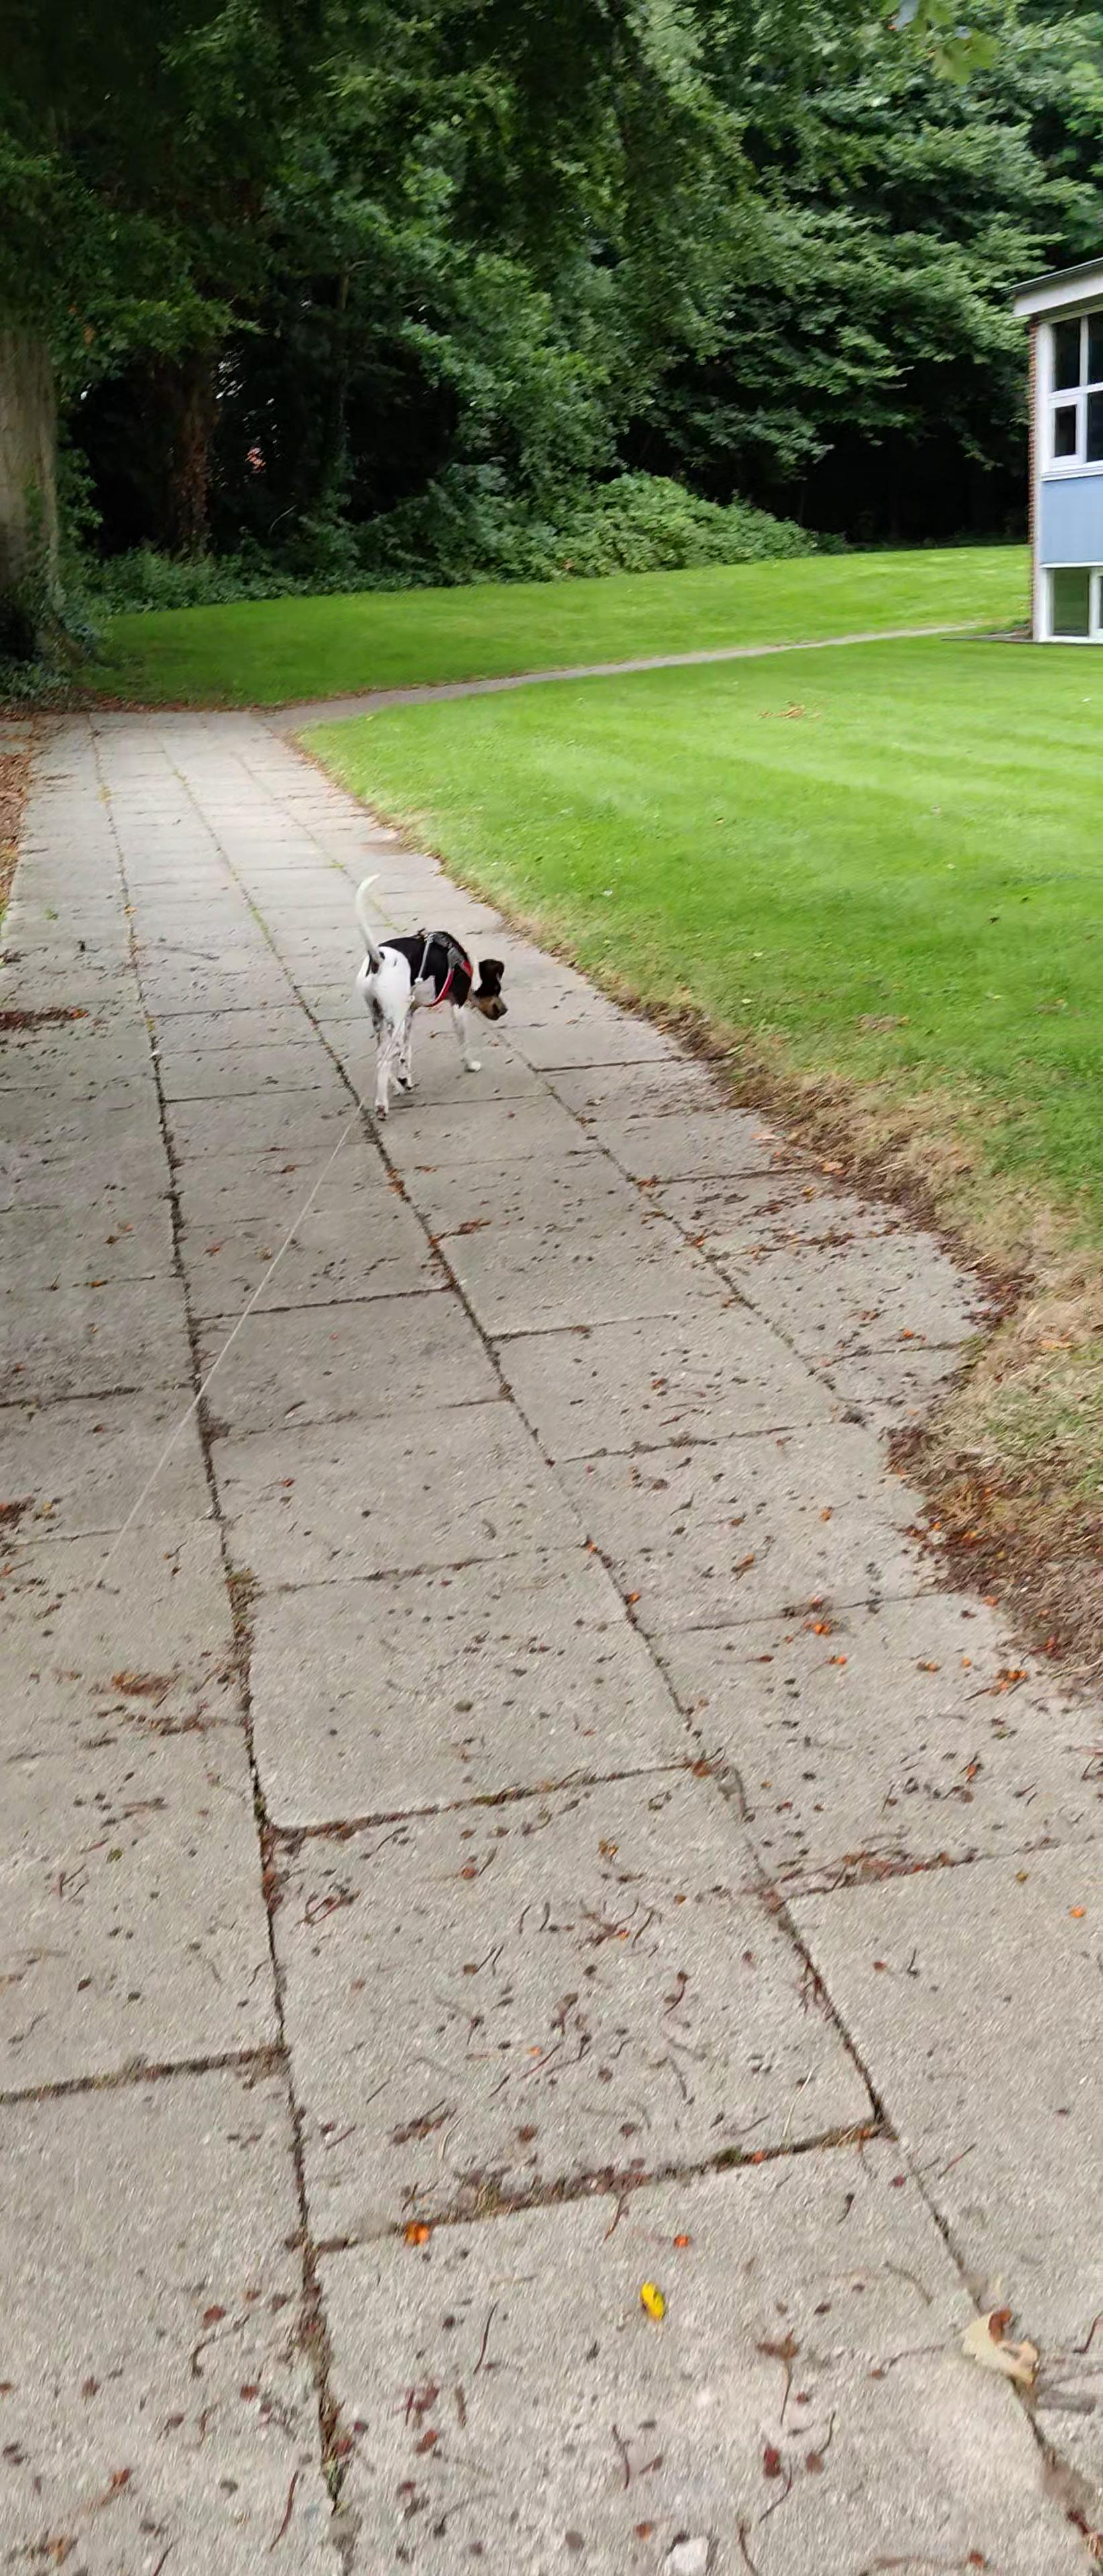Dog: (345, 867, 515, 1122)
